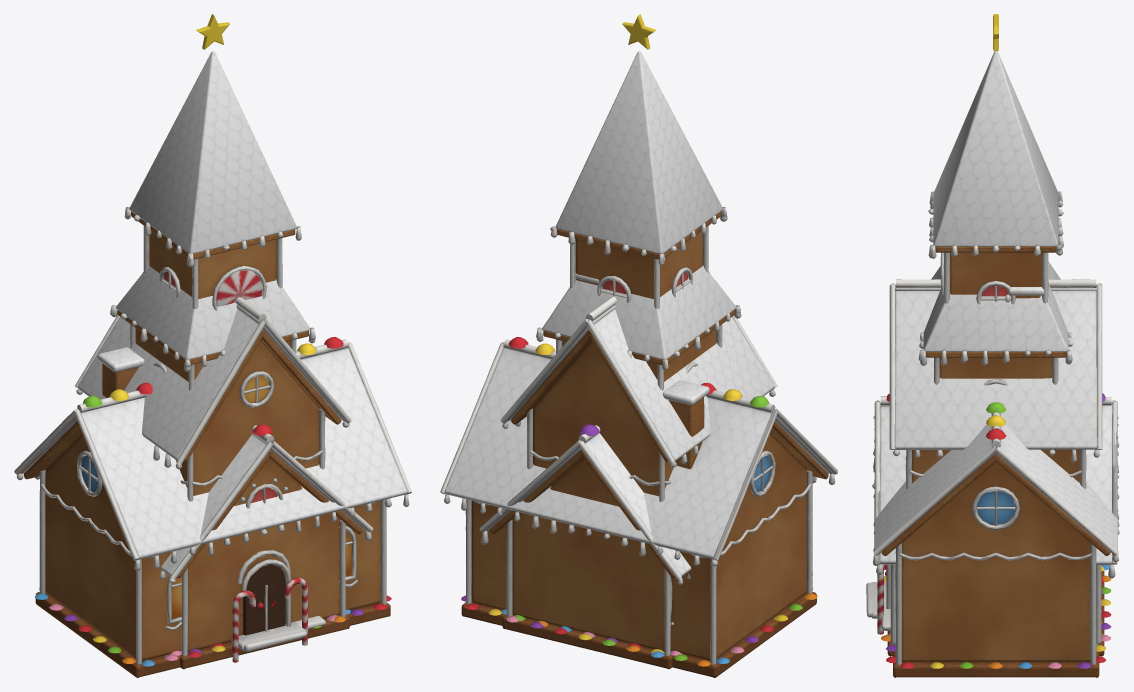
The model's file is gingerbread.glb.
3 views of the same model, side by side, from view 1: azimuth 30°, elevation 25°; view 2: azimuth 150°, elevation 25°; view 3: azimuth 270°, elevation 25° (orthographic).
Parts seen in each view (by area): view 1: Hall_Frosting, Hall_Dough, Steeple_Frosting, Cottage_Dough, Townhouse_Dough, Townhouse_Frosting, Tower_Frosting, Hall_Icing, Steeple_Dough, Hall_IcingFar, Cottage_Icing, Townhouse_Icing (+12 smaller); view 2: Hall_Dough, Hall_Frosting, Cottage_Dough, Steeple_Frosting, Townhouse_Dough, Townhouse_Frosting, Tower_Frosting, Hall_Icing, Steeple_Dough, Hall_IcingFar, Townhouse_Icing, Cottage_Icing (+10 smaller); view 3: Hall_Dough, Townhouse_Frosting, Steeple_Frosting, Hall_Frosting, Tower_Frosting, Hall_Icing, Steeple_Dough, Cottage_Frosting, Townhouse_Icing, Tower_Dough, Hall_IcingFar, Cottage_Icing (+11 smaller).
Boxes of the visible parts, x1,y1,x2,y2 form: Hall_Frosting: [20, 347, 407, 559]; Hall_Dough: [23, 363, 390, 677]; Steeple_Frosting: [129, 51, 296, 253]; Cottage_Dough: [177, 450, 362, 669]; Townhouse_Dough: [176, 329, 341, 495]; Townhouse_Frosting: [78, 305, 345, 460]; Tower_Frosting: [115, 265, 310, 359]; Hall_Icing: [14, 339, 411, 664]; Steeple_Dough: [131, 211, 295, 298]; Hall_IcingFar: [14, 342, 411, 664]; Cottage_Icing: [160, 425, 372, 655]; Townhouse_Icing: [75, 272, 351, 631]; Hall_Dough: [461, 397, 828, 677]; Hall_Frosting: [444, 348, 832, 559]; Cottage_Dough: [489, 450, 674, 669]; Steeple_Frosting: [555, 51, 722, 253]; Townhouse_Dough: [511, 330, 673, 496]; Townhouse_Frosting: [507, 273, 774, 460]; Tower_Frosting: [542, 265, 736, 359]; Hall_Icing: [440, 339, 837, 664]; Steeple_Dough: [557, 211, 721, 298]; Hall_IcingFar: [440, 342, 837, 664]; Townhouse_Icing: [500, 298, 777, 501]; Cottage_Icing: [479, 425, 690, 655]; Hall_Dough: [881, 454, 1110, 677]; Townhouse_Frosting: [894, 284, 1097, 449]; Steeple_Frosting: [933, 51, 1058, 246]; Hall_Frosting: [874, 424, 1117, 550]; Tower_Frosting: [923, 262, 1068, 351]; Hall_Icing: [871, 413, 1119, 664]; Steeple_Dough: [935, 246, 1056, 294]; Cottage_Frosting: [880, 402, 1112, 564]; Townhouse_Icing: [881, 279, 1102, 630]; Tower_Dough: [925, 352, 1066, 378]; Hall_IcingFar: [872, 412, 1119, 664]; Cottage_Icing: [866, 397, 1117, 643].
Bounding box in the file's own units: 3.2 × 6.57 × 2.5.
6 materials, 6 textured.
